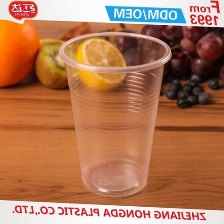glass: (48, 28, 178, 203)
